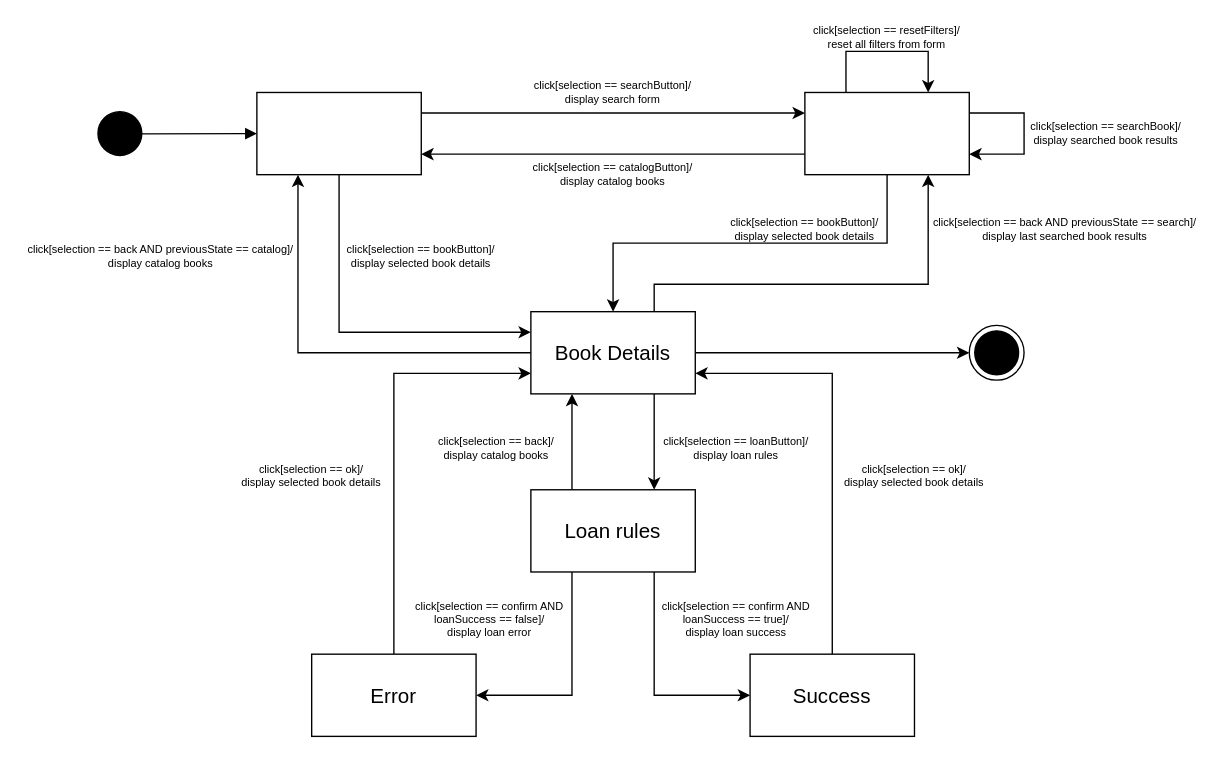
Image size: 1225x760. Some labels were removed from this diagram. Here are the shapes that lost their labels. From the top down, the centre of each, then its label:
(x=338, y=133): Book Catalog
(x=886, y=133): Search Book
